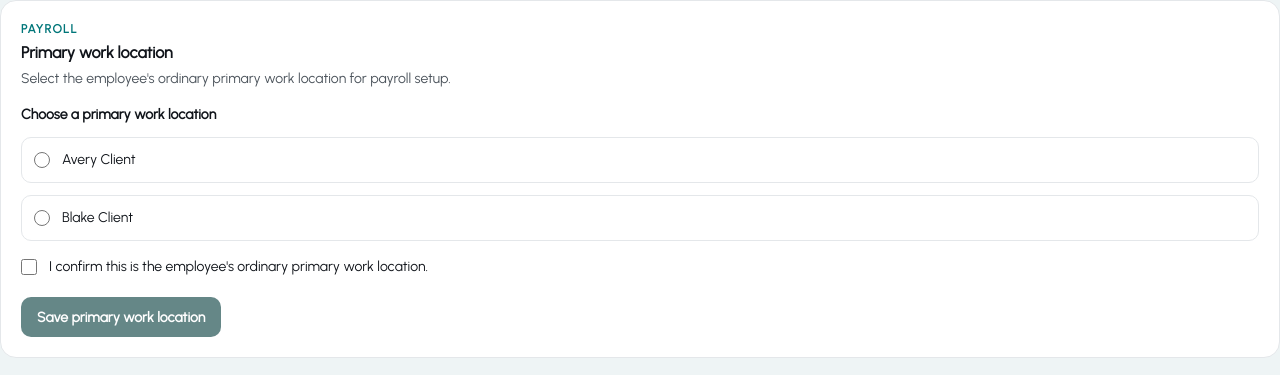
Test: EmployeePrimaryWorkplaceCard › clears the form and explicitly refetches the same employee exactly once on a 409
Step 1. Click the radio button labelled "Avery Client" → (42, 160), box [34,152,50,168]
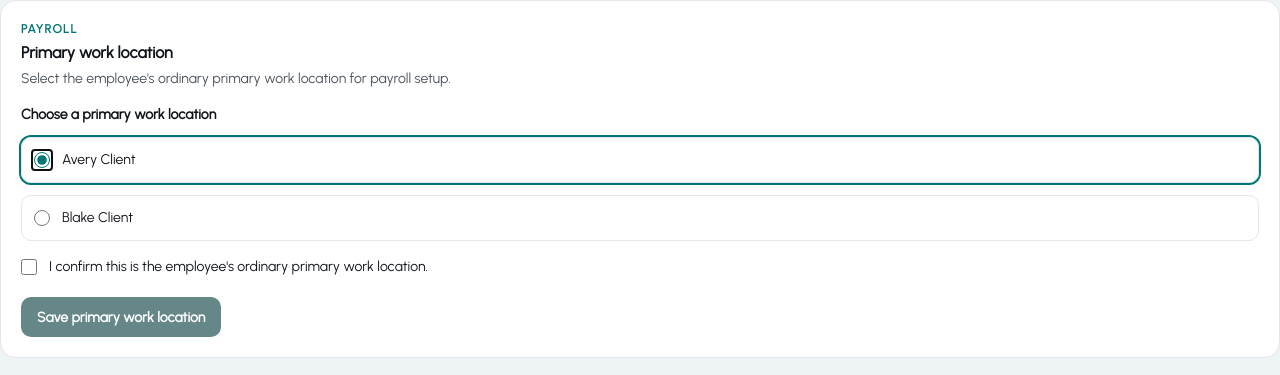
Step 2. Click the checkbox labelled "ordinary primary work location" → (29, 267), box [21,259,37,275]
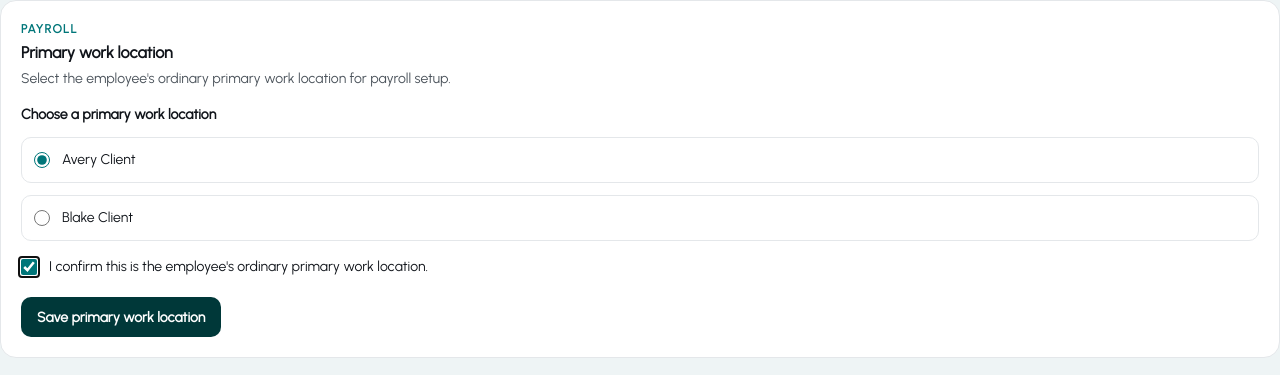
Step 3. Click the button "Save primary work location" → (121, 317), box [21,297,221,337]
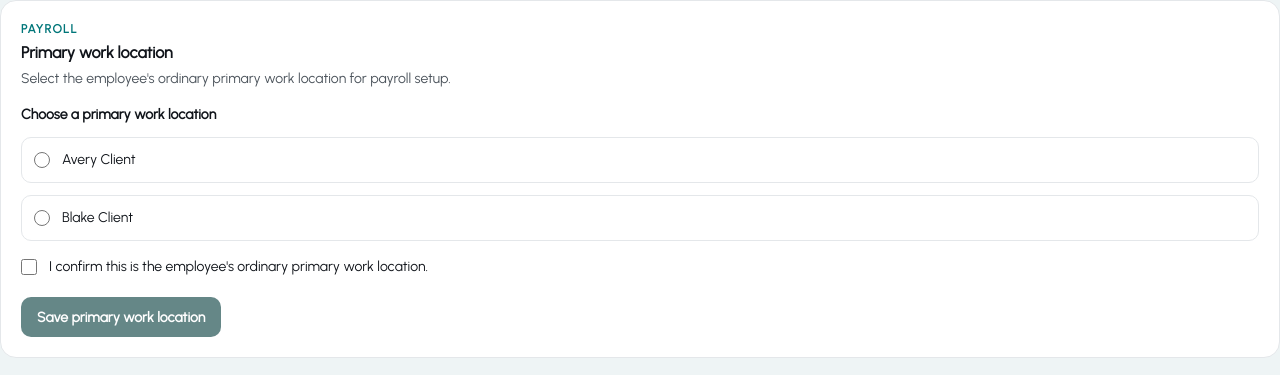
Check: the radio button labelled "Avery Client" is not checked, box [34,152,50,168]
Check: the checkbox labelled "ordinary primary work location" is not checked, box [21,259,37,275]
